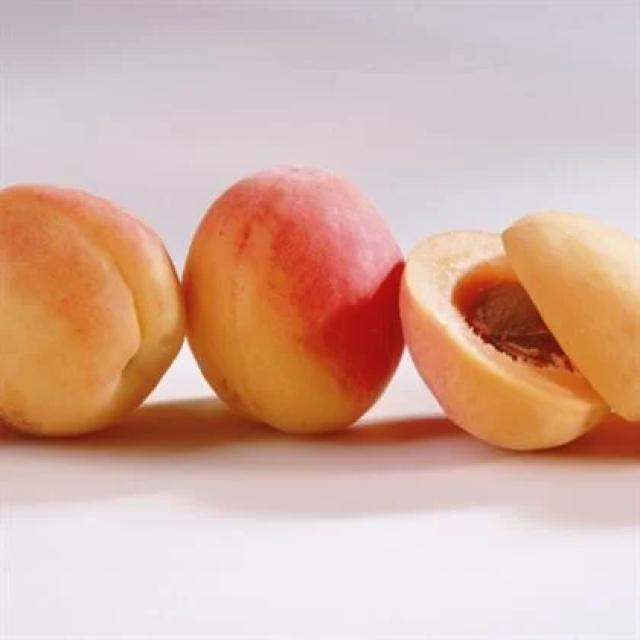Cekirdek: (456, 279, 573, 370)
Kayisi: (183, 168, 399, 431)
